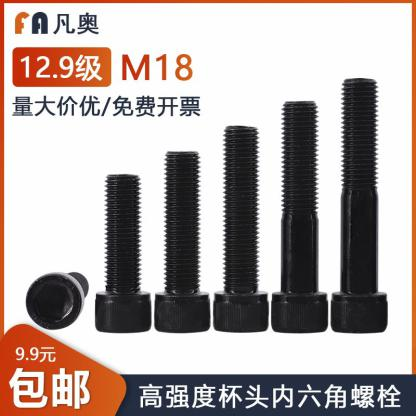FOD: (328, 73, 389, 336), (268, 97, 330, 334), (208, 126, 271, 334), (152, 152, 212, 334), (93, 172, 151, 334), (25, 268, 89, 331)
